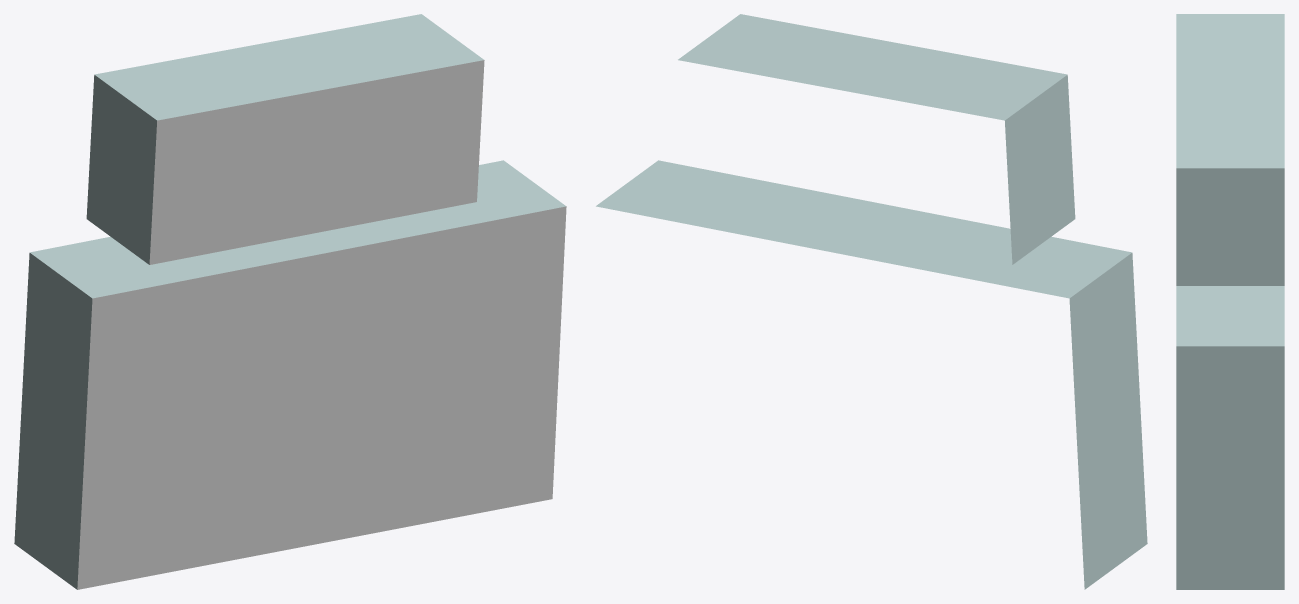
3 views of the same model, side by side, from view 1: azimuth 30°, elevation 25°; view 2: azimuth 150°, elevation 25°; view 3: azimuth 270°, elevation 25° (orthographic). The views are drawn at different scales.
Parts seen in each view (by area): view 1: 0_2_3_2_2_2_1_2_1; view 2: 0_2_3_2_2_2_1_2_1; view 3: 0_2_3_2_2_2_1_2_1.
Part boxes in pixels (x1,y1,x2,y2): 0_2_3_2_2_2_1_2_1: (14, 14, 566, 589); 0_2_3_2_2_2_1_2_1: (596, 14, 1147, 589); 0_2_3_2_2_2_1_2_1: (1176, 14, 1284, 589).
Size of the model in its own units: 13.46 by 12.49 by 3.
